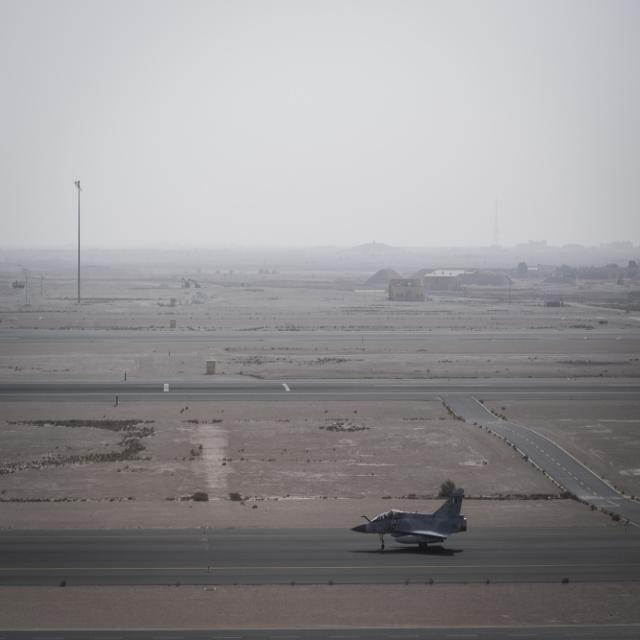MIL_Plane: (350, 487, 468, 550)
